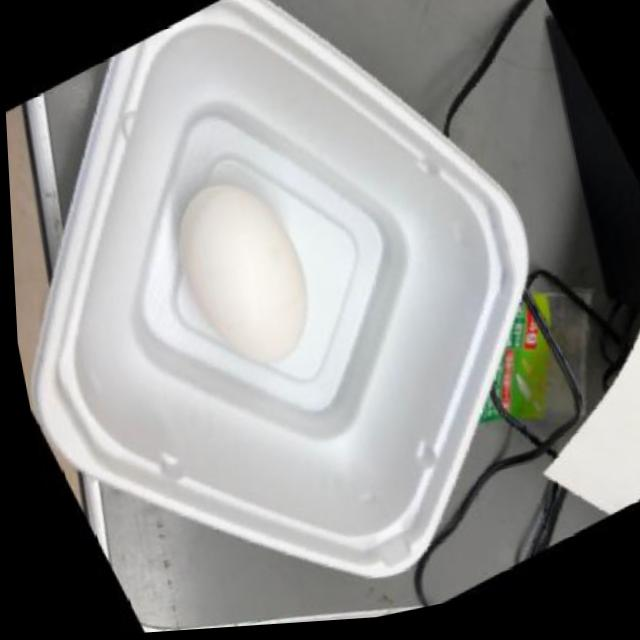egg: (153, 168, 318, 383)
